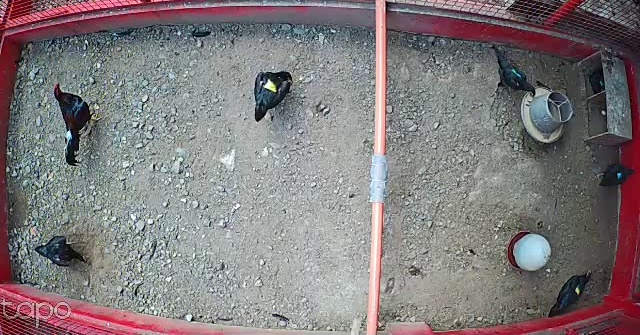Chicken: (546, 265, 599, 318), (487, 40, 536, 97), (251, 69, 295, 123), (29, 235, 89, 266), (594, 160, 634, 192)
Rooster: (47, 82, 103, 167)
Saddle_Color_Blue: (617, 172, 622, 178)
Saddle_Color_Yellow: (262, 77, 283, 95)
Saddle_Color_YellowGreen: (575, 285, 583, 296)
